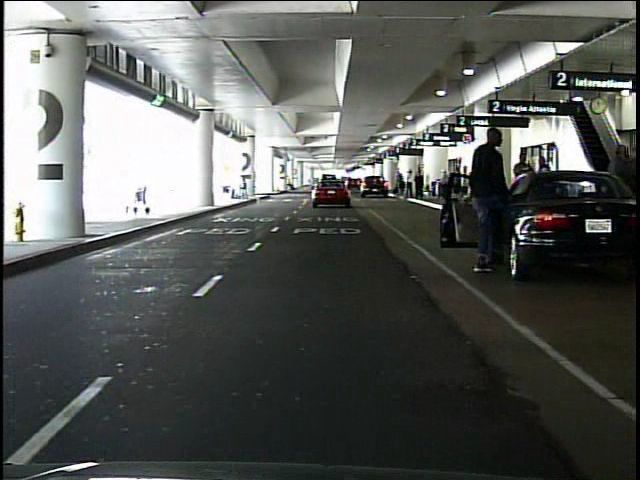person: (469, 129, 514, 278), (579, 141, 633, 229), (509, 150, 537, 221), (535, 154, 554, 220), (404, 168, 415, 200), (415, 170, 426, 200), (397, 172, 406, 197), (285, 175, 294, 192)
